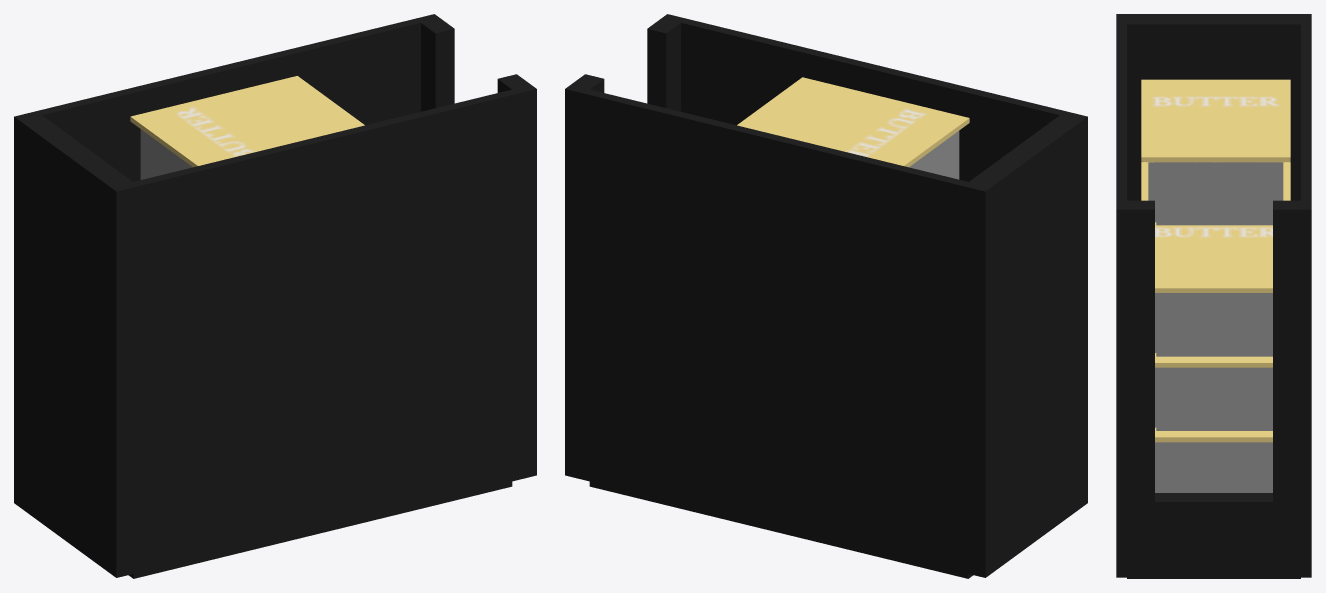
File: Butter Packet Holder.fbx
3 renders of one model, left to right at view 1: azimuth 30°, elevation 25°; view 2: azimuth 150°, elevation 25°; view 3: azimuth 270°, elevation 25°, orthographic. The views are drawn at different scales.
Visible parts, largest first — view 1: Butter_Pack_Holder, Butter_Pack_6; view 2: Butter_Pack_Holder, Butter_Pack_6; view 3: Butter_Pack_Holder, Butter_Pack_6, Butter_Pack_4, Butter_Pack_3, Butter_Pack, Butter_Pack_5.
Part boxes in pixels (left/top/right/bottom): Butter_Pack_Holder: left=14, top=14, right=536, bottom=578; Butter_Pack_6: left=130, top=76, right=364, bottom=179; Butter_Pack_Holder: left=565, top=14, right=1087, bottom=578; Butter_Pack_6: left=737, top=77, right=969, bottom=179; Butter_Pack_Holder: left=1116, top=14, right=1311, bottom=578; Butter_Pack_6: left=1141, top=79, right=1290, bottom=225; Butter_Pack_4: left=1155, top=222, right=1272, bottom=356; Butter_Pack_3: left=1155, top=353, right=1272, bottom=430; Butter_Pack: left=1155, top=427, right=1272, bottom=492; Butter_Pack_5: left=1141, top=162, right=1290, bottom=200.
Bounding box in the file's own units: 12.8 × 11.55 × 5.4.
Materials: 2 (2 with a texture image).
